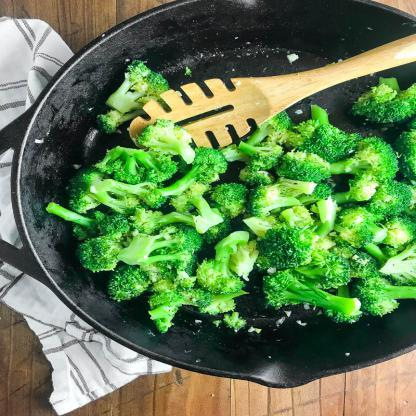broccoli: (46, 59, 416, 333)
